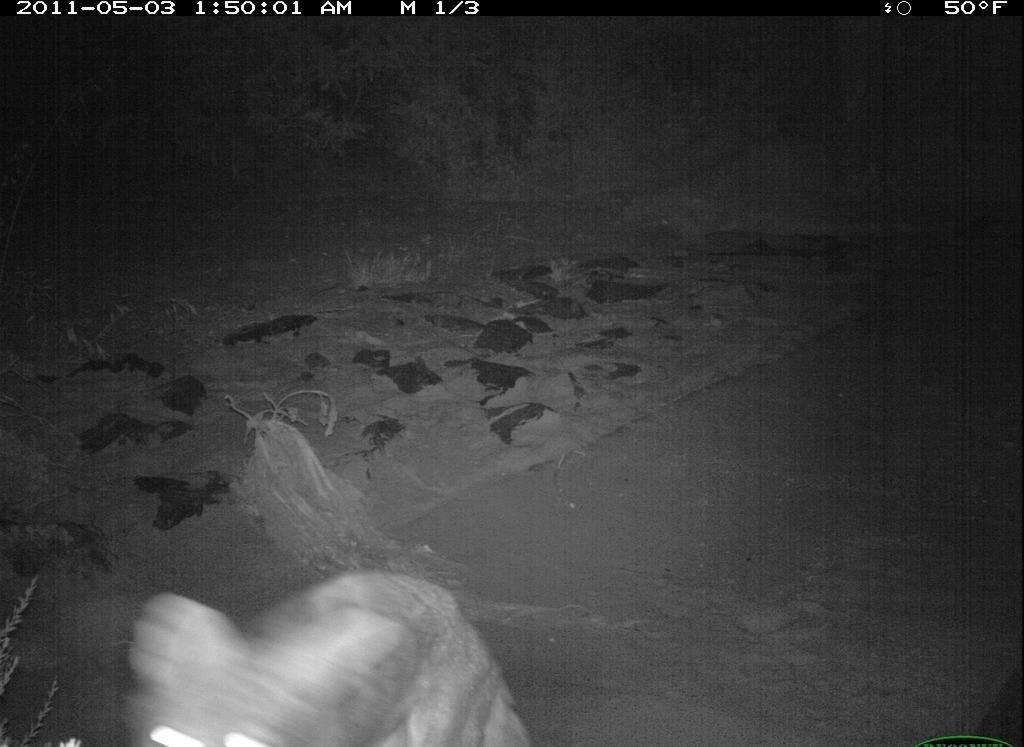coyote: (111, 568, 542, 747)
